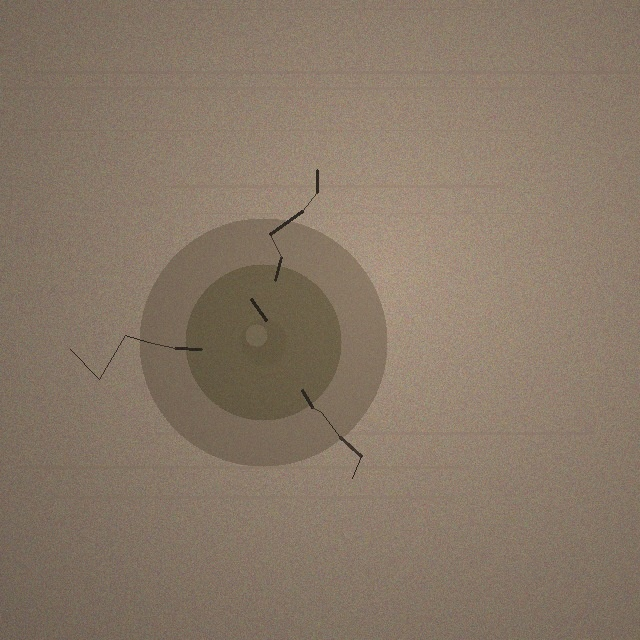crack: (139, 218, 387, 466)
